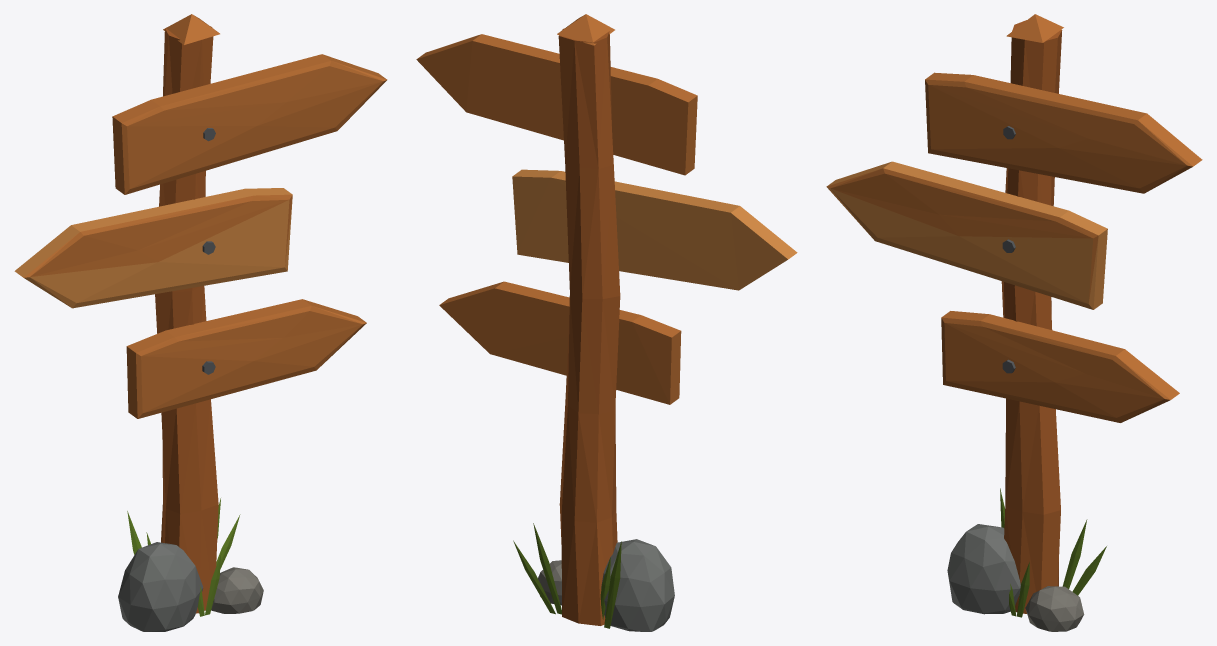
The model's file is Farm Direction Sign.glb.
3 renders of one model, left to right at view 1: azimuth 30°, elevation 25°; view 2: azimuth 150°, elevation 25°; view 3: azimuth 330°, elevation 25°, orthographic.
Visible parts, largest first — view 1: Farm Direction Sign; view 2: Farm Direction Sign; view 3: Farm Direction Sign.
Part boxes in pixels (x1=…): Farm Direction Sign: x1=14, y1=14, x2=387, y2=631; Farm Direction Sign: x1=416, y1=14, x2=797, y2=631; Farm Direction Sign: x1=826, y1=14, x2=1202, y2=631.
Size of the model in its own units: 1.21 by 1.87 by 0.2304.
